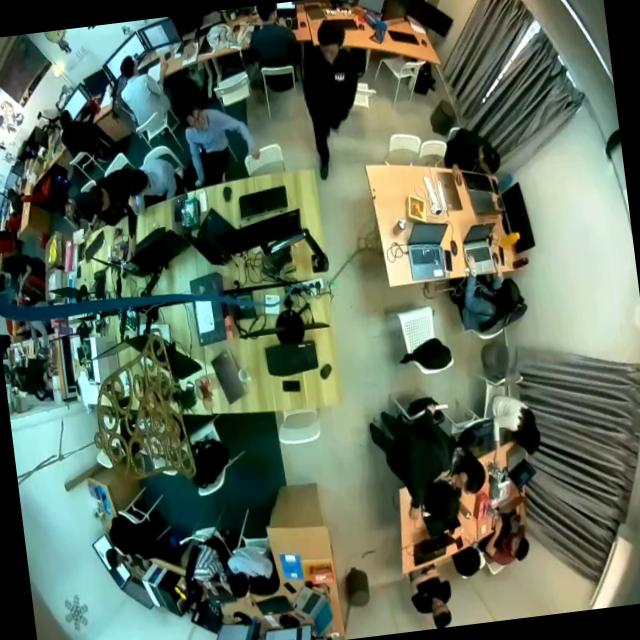employee_tag: (332, 70, 346, 83)
